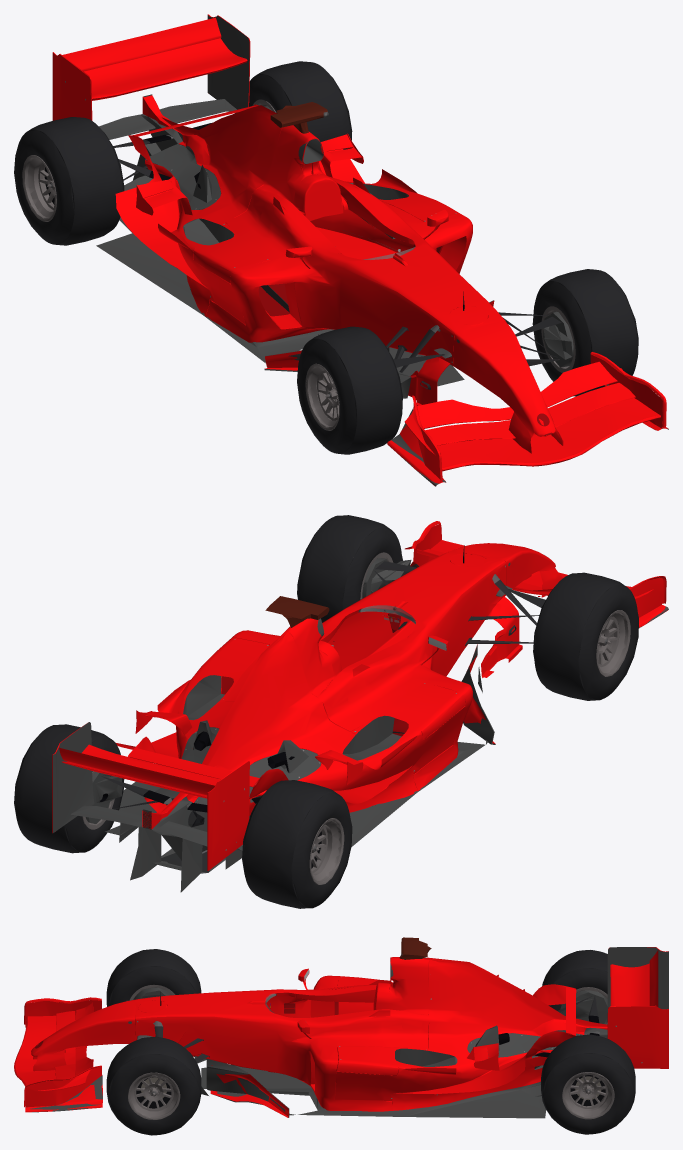
Rendered from f1-05-mclaren.glb.
3 views of the same model, one above another, from view 1: azimuth 30°, elevation 25°; view 2: azimuth 150°, elevation 25°; view 3: azimuth 270°, elevation 25° (orthographic). The views are drawn at different scales.
Visible parts, largest first — view 1: BODY, WHEEL_RR, WHEEL_RF, WHEEL_LF, WHEEL_LR, GLASS; view 2: BODY, WHEEL_RR, WHEEL_RF, WHEEL_LF, WHEEL_LR, GLASS; view 3: BODY, WHEEL_LR, WHEEL_LF, WHEEL_RF, WHEEL_RR.
Boxes of the visible parts, x1,y1,x2,y2 form: BODY: (43,14,668,486); WHEEL_RR: (14,117,124,245); WHEEL_RF: (297,326,402,454); WHEEL_LF: (532,269,638,396); WHEEL_LR: (249,61,352,149); GLASS: (259,112,552,435); BODY: (52,521,668,892); WHEEL_RR: (242,780,352,908); WHEEL_RF: (533,572,638,700); WHEEL_LF: (297,515,402,622); WHEEL_LR: (14,724,124,853); GLASS: (161,605,415,873); BODY: (14,937,668,1118); WHEEL_LR: (541,1034,635,1134); WHEEL_LF: (106,1036,201,1135); WHEEL_RF: (106,949,201,1006); WHEEL_RR: (542,950,607,1024).
Bounding box in the file's own units: 1.84 × 1.09 × 4.65.
